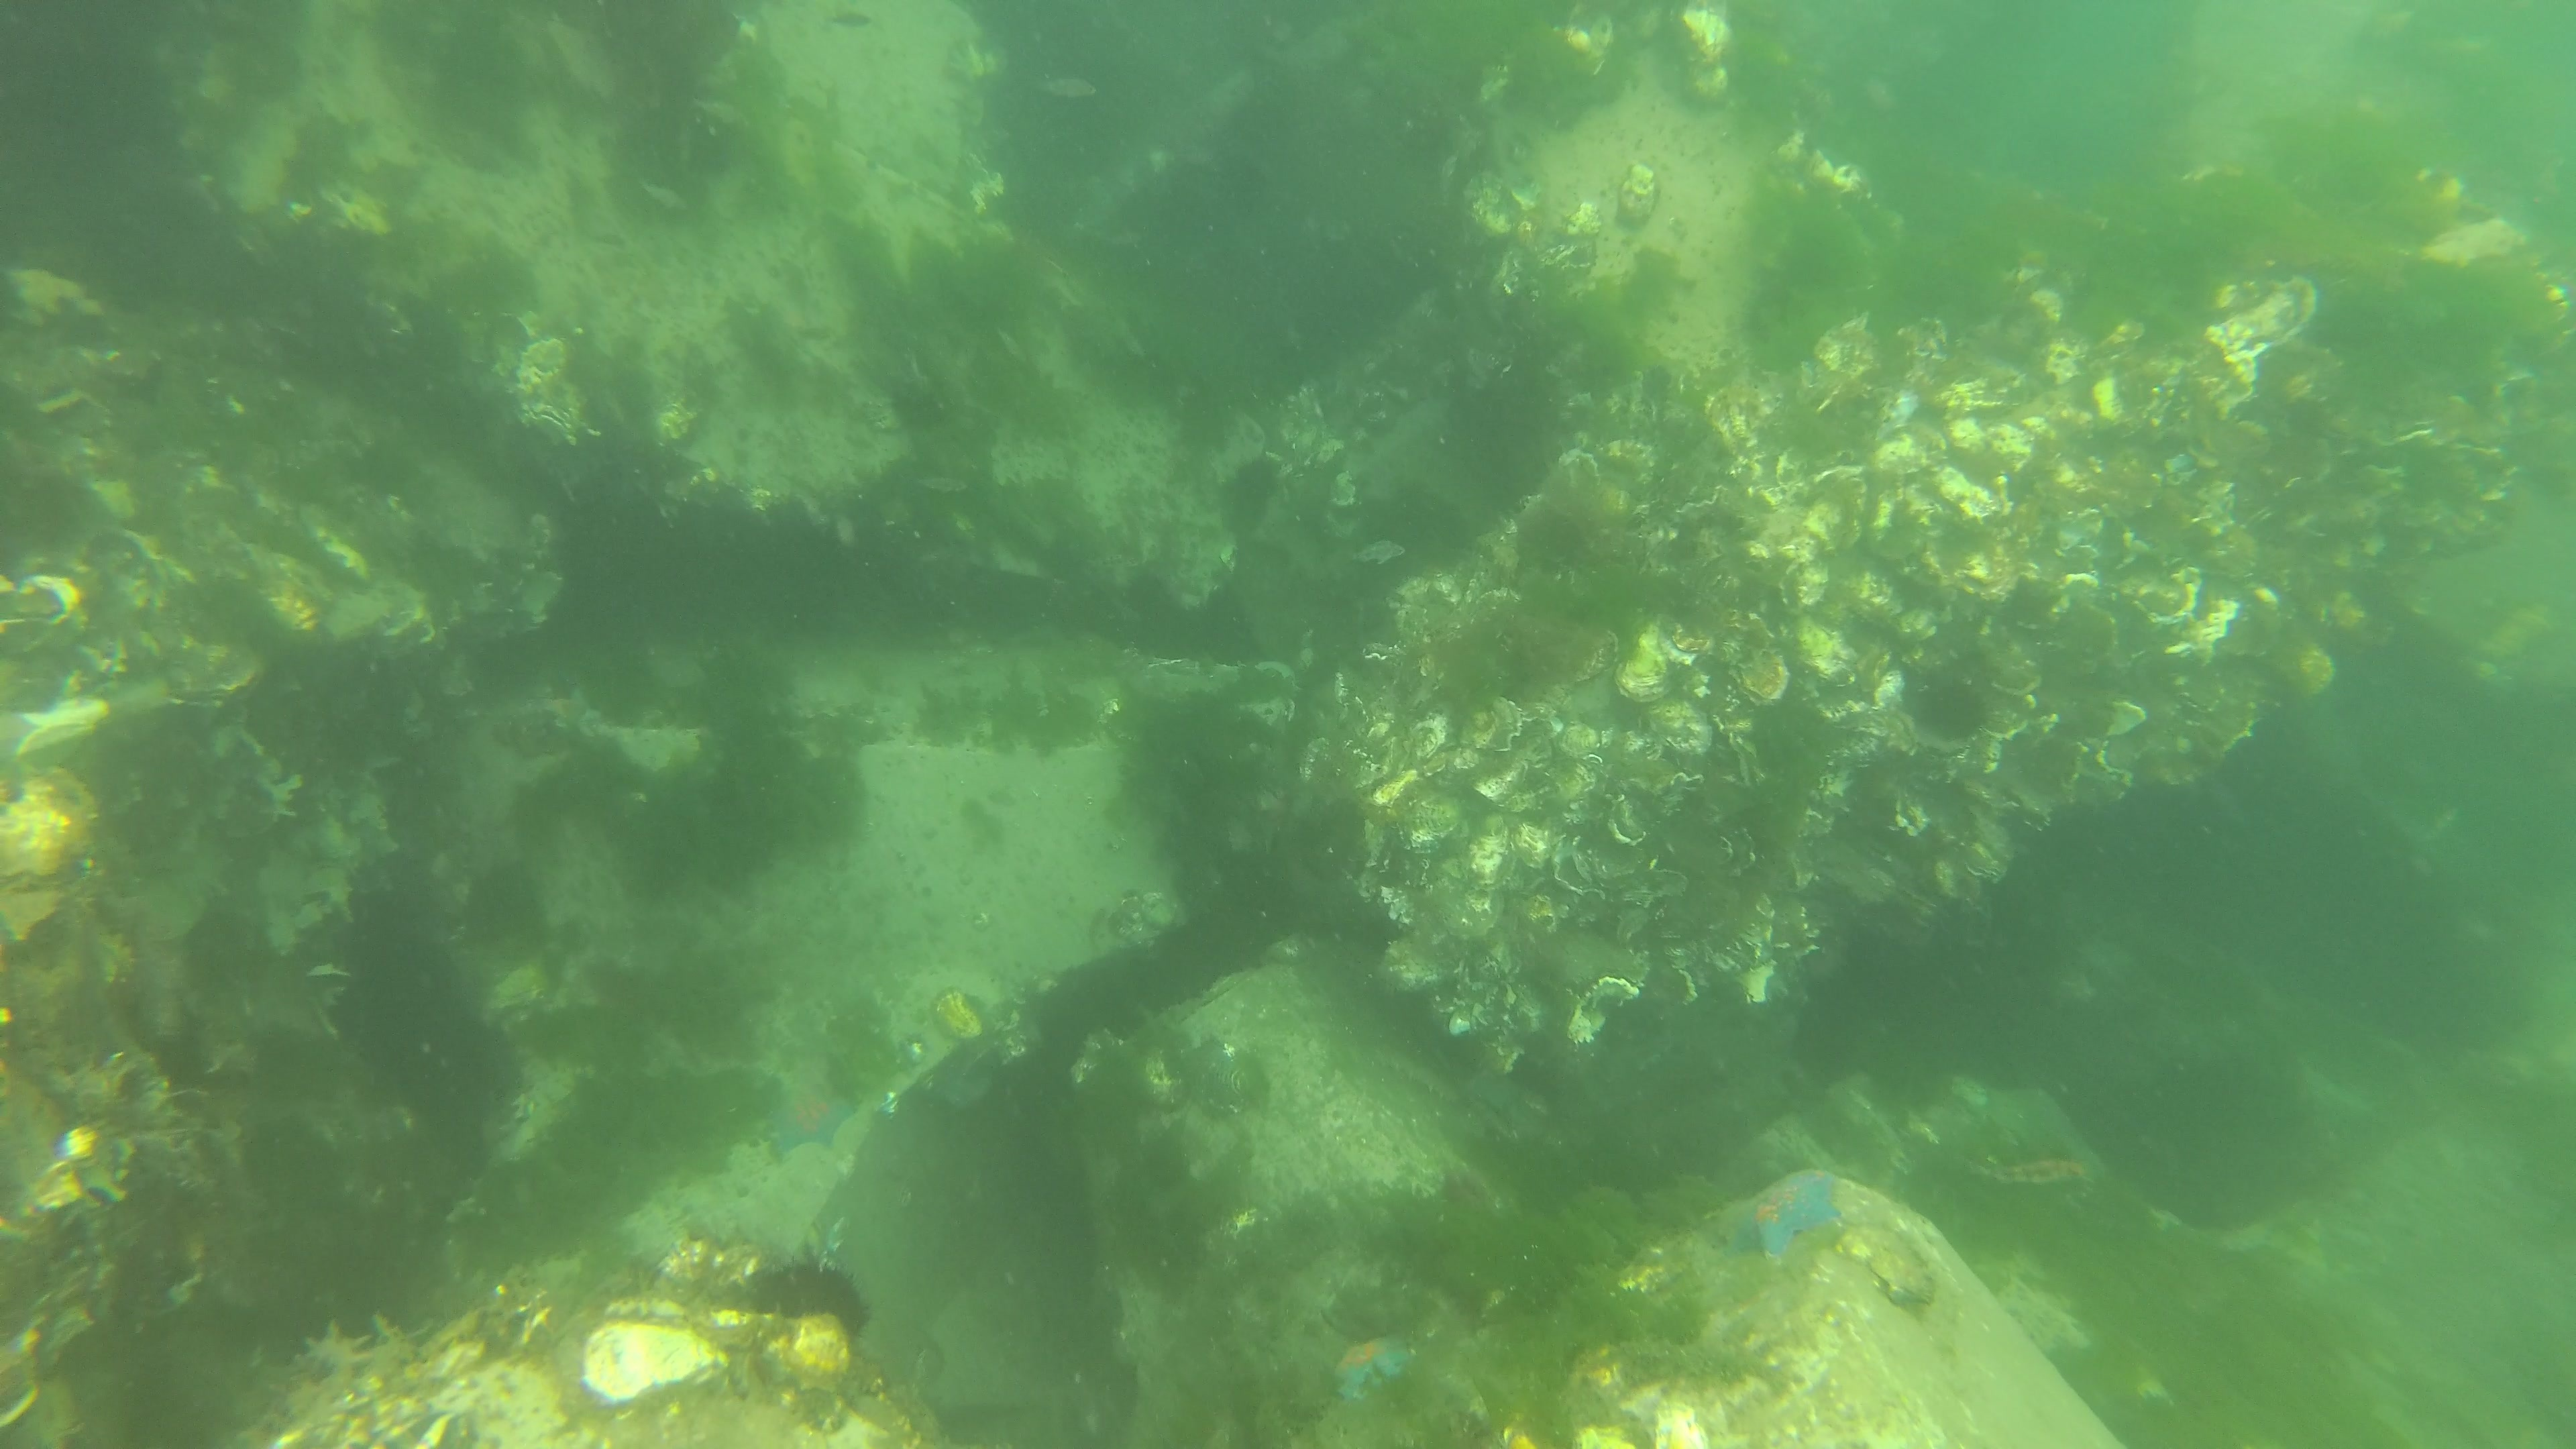echinus: (747, 1253, 876, 1341), (1214, 451, 1288, 540), (1913, 646, 1987, 734)
starfish: (1721, 1161, 1851, 1263), (757, 1076, 856, 1161), (1323, 1332, 1421, 1407)
